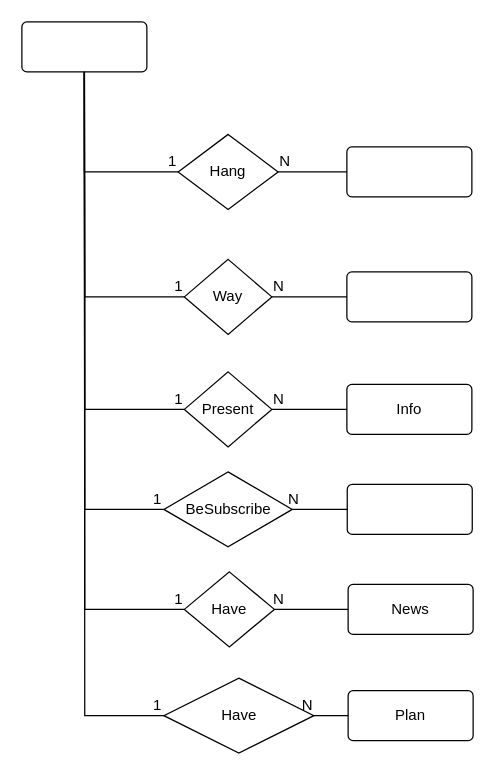
Image size: 495x775. Some labels were removed from this diagram. The centre of each missing label's shape, as x and y in pixels:
"Academy" goes at [84,46].
"Banner" goes at [409,171].
"ContactUs" goes at [409,296].
"Subscriber" goes at [409,508].
